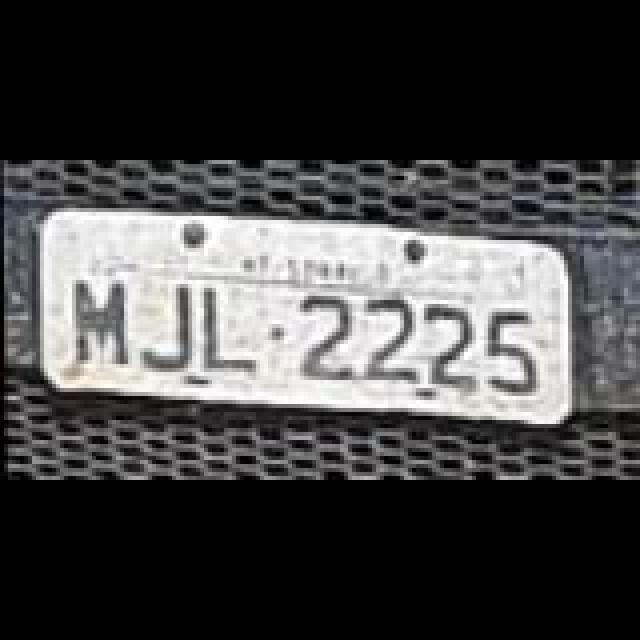2: (360, 298, 416, 382), (296, 298, 352, 382), (426, 306, 478, 390)
5: (486, 308, 538, 396)
J: (140, 284, 196, 372)
L: (204, 288, 260, 376)
M: (74, 280, 126, 368)
